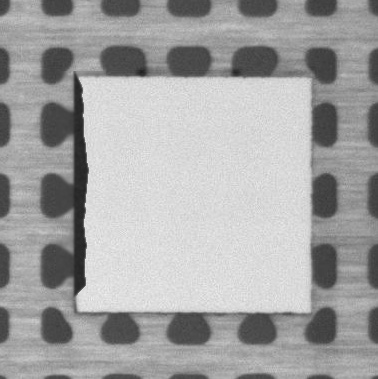DIE_BROKEN: (71, 75, 91, 297)
